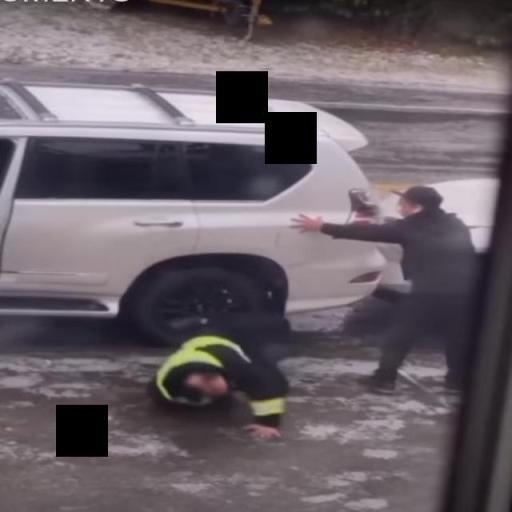Fall: (146, 316, 299, 446)
